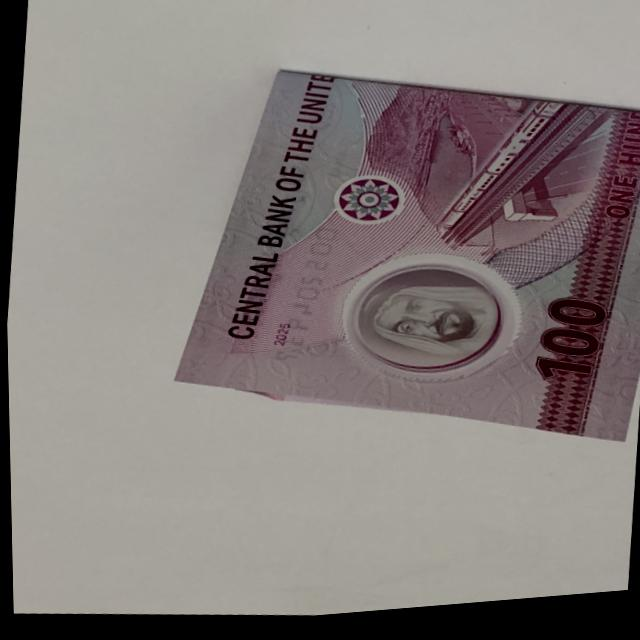100_AED: (170, 68, 640, 444)
